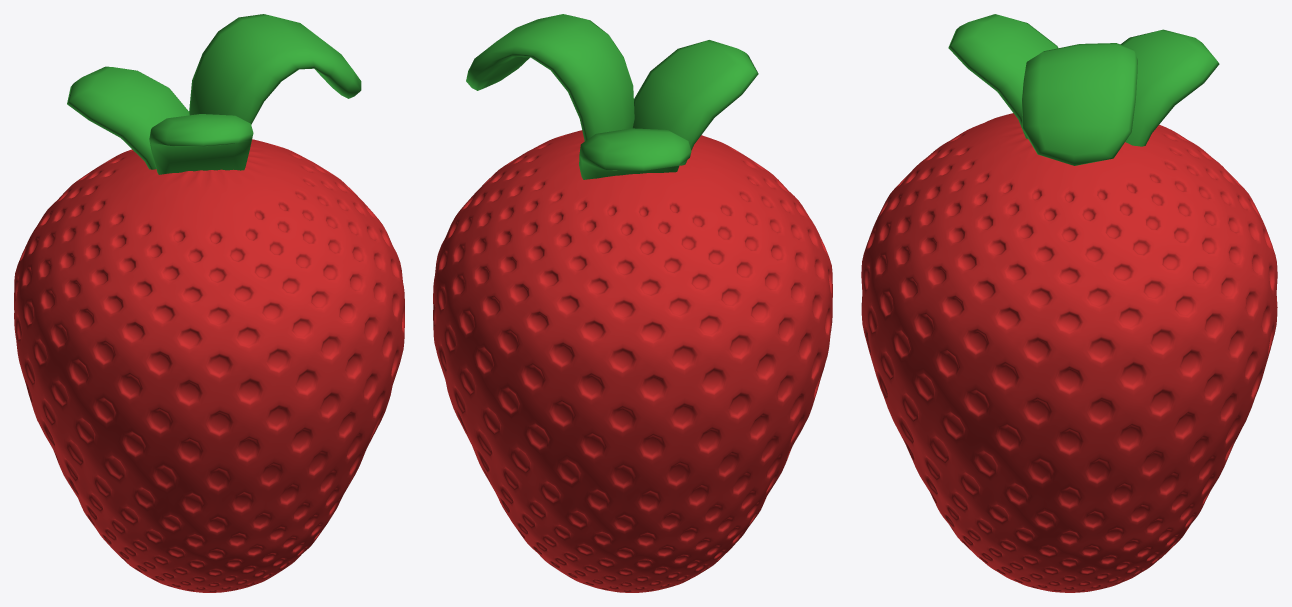
The model's file is Strawberry.fbx.
3 renders of one model, left to right at view 1: azimuth 30°, elevation 25°; view 2: azimuth 150°, elevation 25°; view 3: azimuth 270°, elevation 25°, orthographic. The views are drawn at different scales.
Visible parts, largest first — view 1: strawberry; view 2: strawberry; view 3: strawberry.
Boxes of the visible parts, box(x1,y1,x2,y2) form: strawberry: box(14, 14, 404, 592); strawberry: box(433, 14, 832, 592); strawberry: box(861, 14, 1277, 592).
Size of the model in its own units: 182 by 271 by 182.
